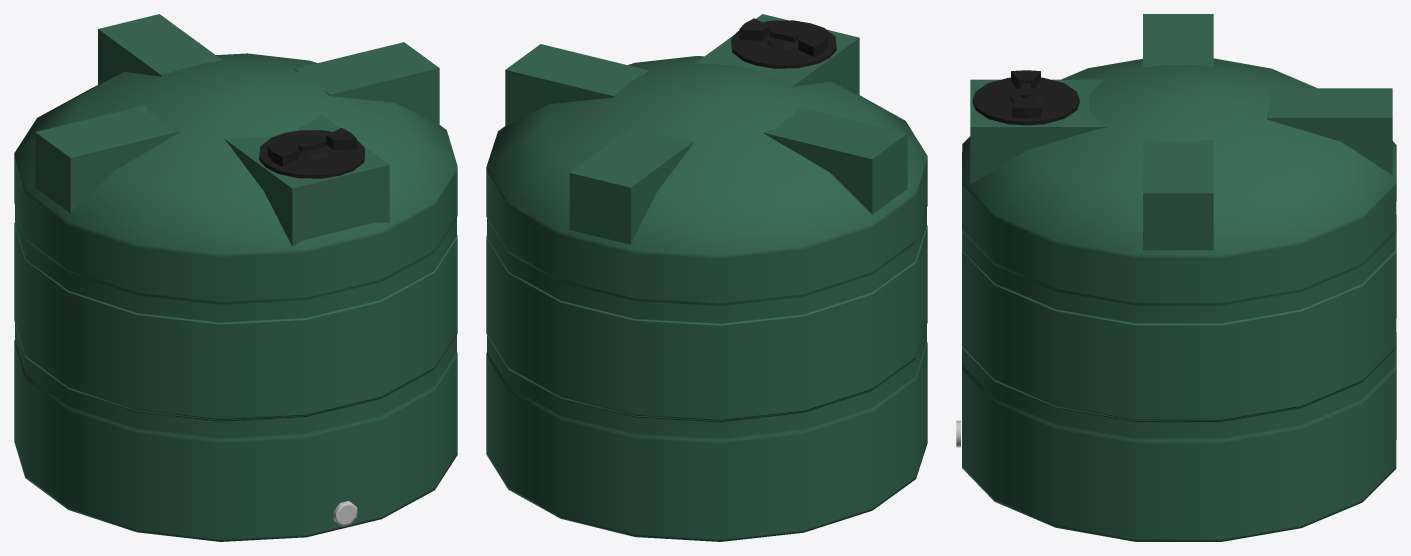
Rendered from WaterTank_multiLOD.mw.fbx.
3 renders of one model, left to right at view 1: azimuth 30°, elevation 25°; view 2: azimuth 150°, elevation 25°; view 3: azimuth 270°, elevation 25°, orthographic.
Visible parts, largest first — view 1: WaterTank_LOD0; view 2: WaterTank_LOD0; view 3: WaterTank_LOD0.
Boxes of the visible parts, bbox=[...] form: WaterTank_LOD0: bbox=[14, 14, 457, 541]; WaterTank_LOD0: bbox=[486, 14, 927, 541]; WaterTank_LOD0: bbox=[956, 14, 1396, 541].
Size of what is drawn, in the model's own units: 180 by 164 by 182.
